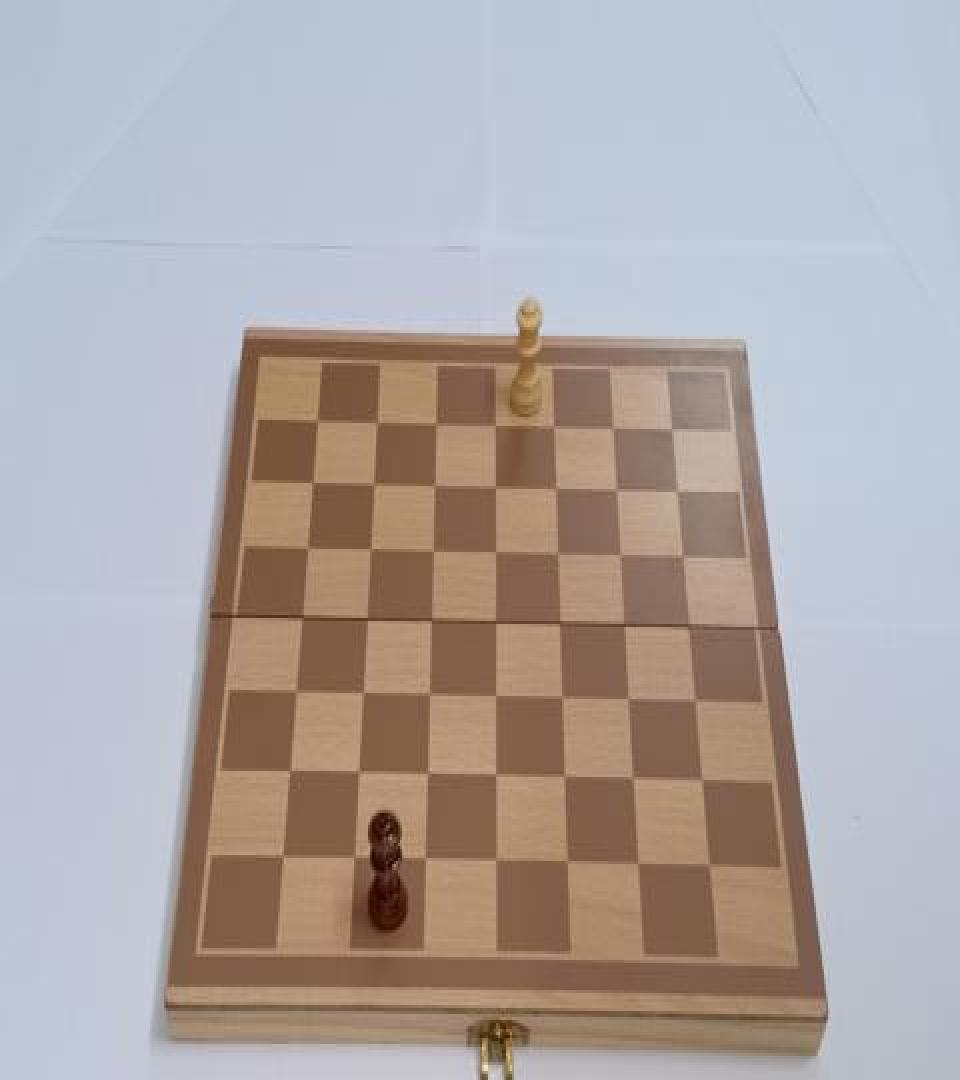xcorner: (350, 760, 368, 788), (425, 472, 443, 500), (485, 412, 503, 440), (607, 478, 625, 506), (308, 408, 326, 435), (303, 470, 321, 497), (298, 534, 316, 561), (293, 604, 311, 631), (287, 678, 305, 705), (274, 843, 292, 870), (364, 471, 382, 498), (361, 537, 379, 564), (357, 606, 375, 633), (354, 681, 372, 708), (345, 844, 363, 871), (426, 411, 444, 438), (423, 538, 441, 565), (420, 683, 438, 710), (419, 762, 437, 789), (485, 474, 503, 501), (486, 540, 504, 567), (486, 610, 504, 637), (487, 684, 505, 711), (488, 849, 506, 876), (544, 414, 562, 441), (551, 612, 569, 639), (554, 687, 572, 714), (557, 766, 575, 793), (560, 852, 578, 879), (603, 415, 621, 442), (611, 543, 629, 570), (621, 689, 639, 716), (626, 768, 644, 795), (662, 417, 680, 444), (668, 480, 686, 507), (674, 546, 692, 573), (681, 615, 699, 642), (688, 690, 706, 717), (695, 771, 713, 798), (703, 857, 721, 884), (281, 758, 299, 784), (367, 410, 385, 436), (422, 608, 440, 634), (417, 848, 435, 874), (488, 764, 506, 790), (546, 476, 564, 502), (549, 542, 567, 568), (616, 614, 634, 640), (631, 854, 649, 880)
